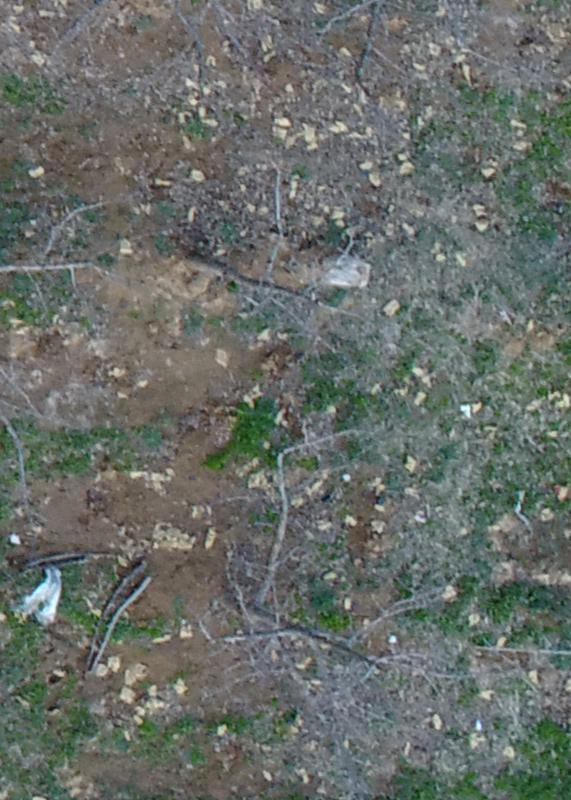apple: (186, 417, 441, 701), (152, 173, 382, 367)
